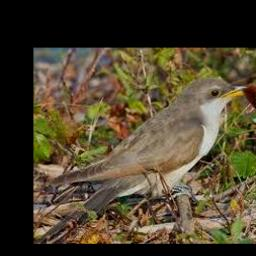Cuckoo: (36, 78, 248, 244)
